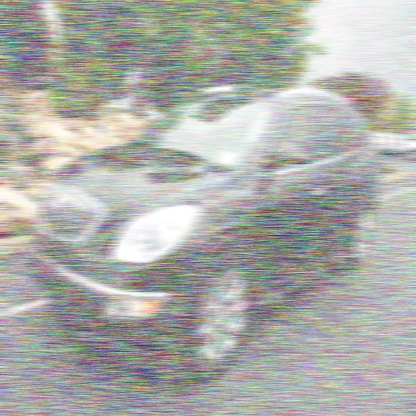Vehicle: (31, 86, 380, 381)
